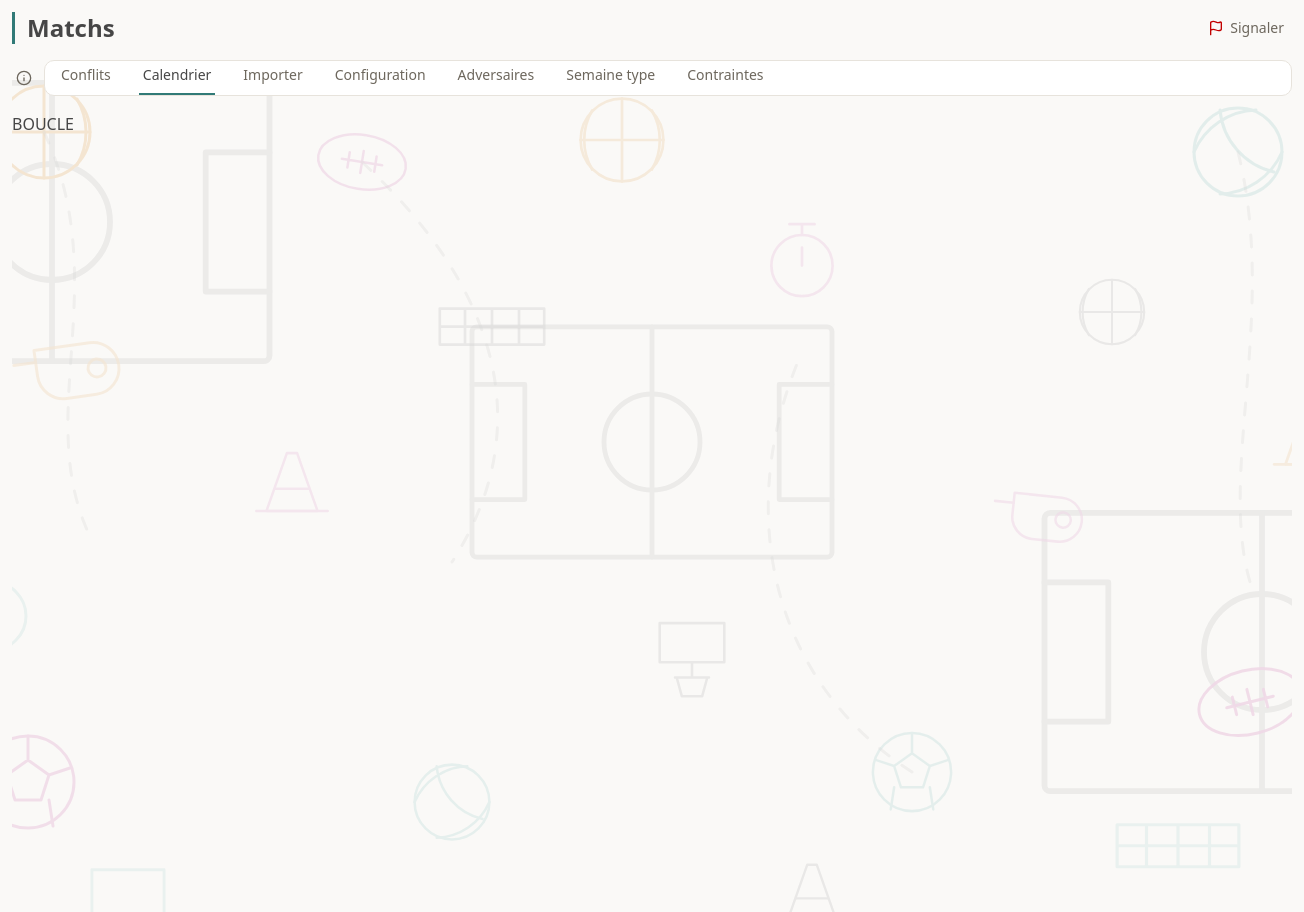
Test case: MatchesLayout (RMM-1 PR2 — deux espaces) › porte l'onglet Conflits et rend l'espace Conflits (PR A)
Click the link "Conflits".
click(86, 74)  # box [61, 65, 111, 84]
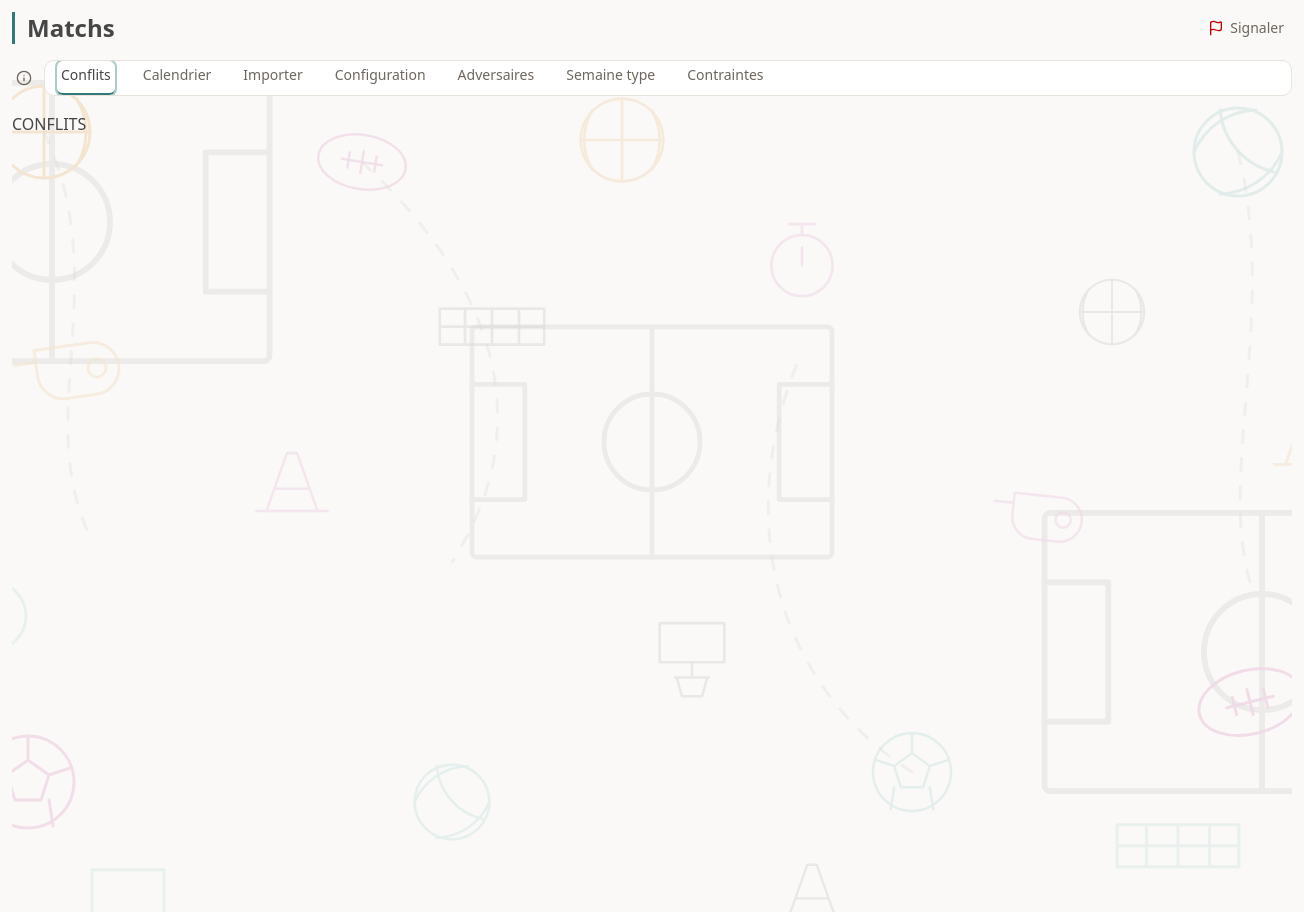
expect the text "CONFLITS" is shown: met, box [12, 113, 86, 135]
